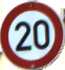20 km speed: (1, 1, 65, 69)
